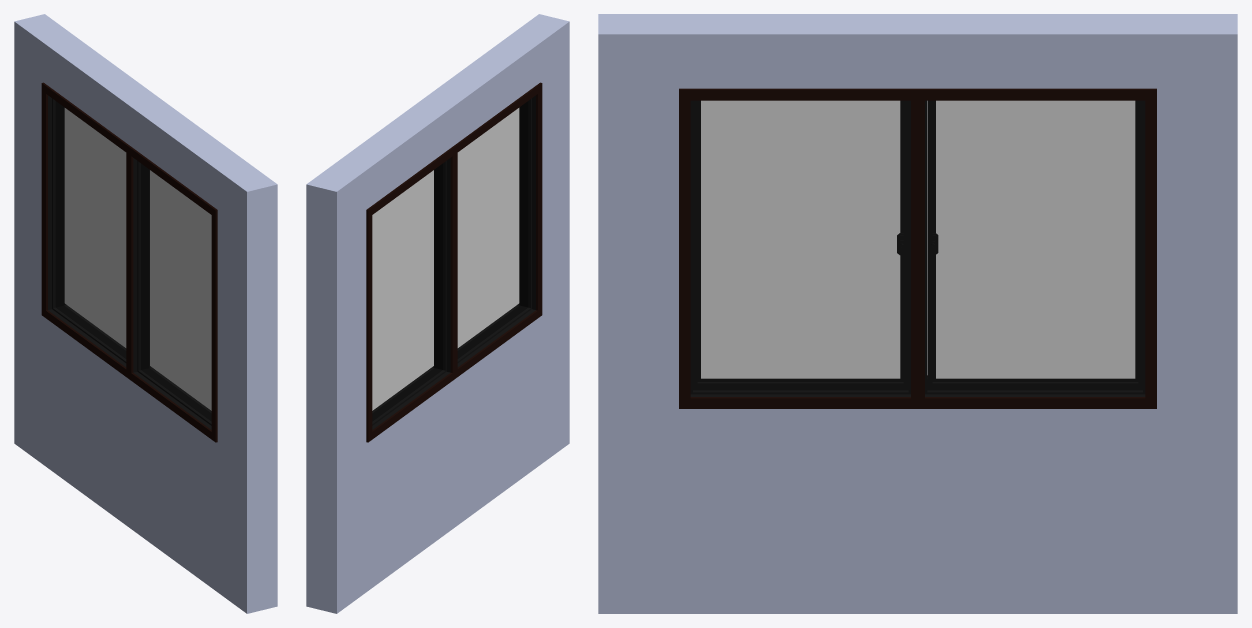
File: Wall_Window.fbx
3 renders of one model, left to right at view 1: azimuth 30°, elevation 25°; view 2: azimuth 150°, elevation 25°; view 3: azimuth 270°, elevation 25°, orthographic. The views are drawn at different scales.
Visible parts, largest first — view 1: Wall_Empty.001, Cylinder, Cylinder.001; view 2: Wall_Empty.001, Cylinder, Cylinder.001; view 3: Wall_Empty.001, Cylinder, Cylinder.001.
Boxes of the visible parts, <box> form: Wall_Empty.001: <box>14,14,277,613</box>; Cylinder: <box>149,169,211,413</box>; Cylinder.001: <box>64,108,126,350</box>; Wall_Empty.001: <box>306,14,569,613</box>; Cylinder: <box>457,107,519,350</box>; Cylinder.001: <box>372,170,434,413</box>; Wall_Empty.001: <box>598,14,1237,613</box>; Cylinder: <box>693,100,908,387</box>; Cylinder.001: <box>927,100,1142,387</box>.
Size of the model in its own units: 17.13 by 200 by 200.
